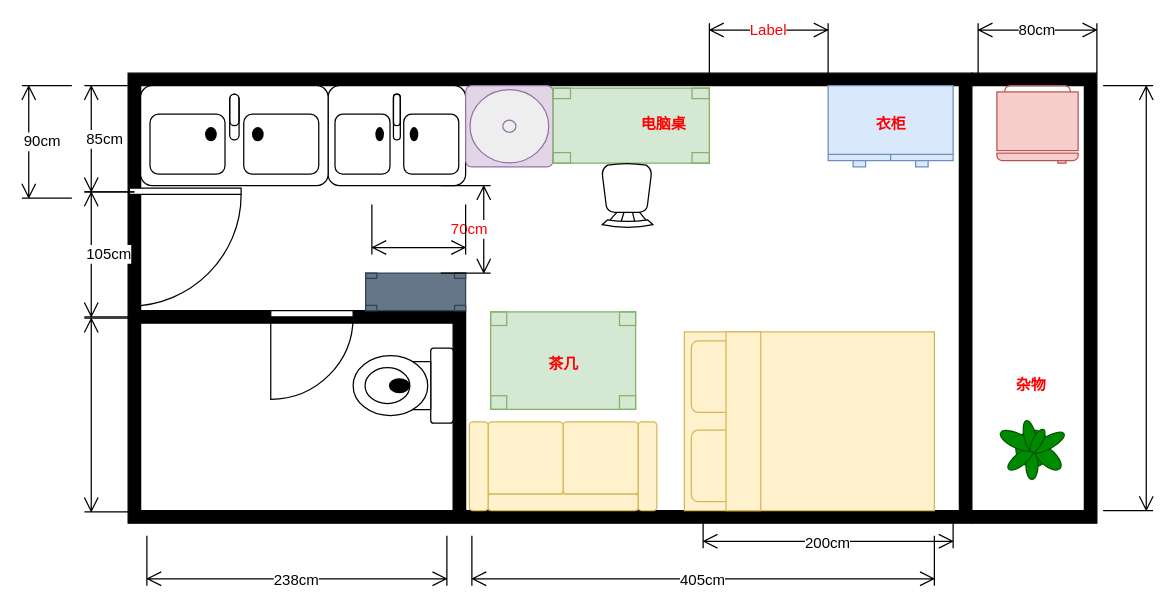
Image size: 1175x609. Some labels were removed from this diagram. Each missing label, with the box of its shape:
155cm: (83, 317, 134, 512)
360cm: (1102, 84, 1153, 511)
74cm: (371, 203, 466, 254)
冰箱: (464, 84, 553, 167)
洗衣机: (996, 84, 1078, 163)
鞋柜: (364, 272, 466, 311)
